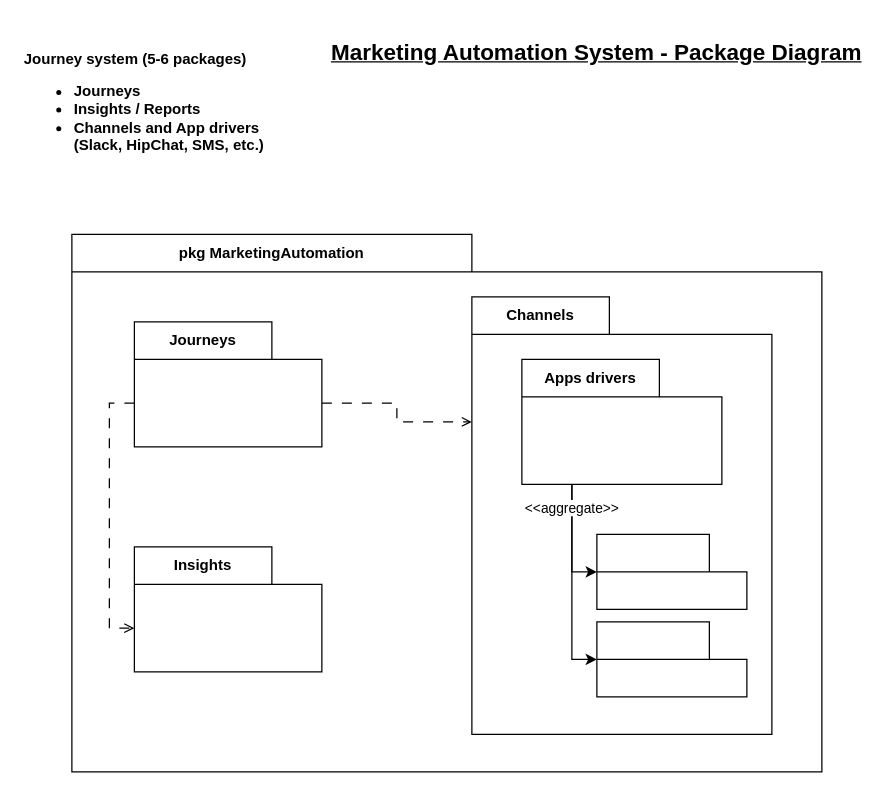
Image size: 893x794. Some labels were removed from this diagram. Each missing label, with the centre of its shape:
Hipchat: (671,659)
Slack: (671,571)
